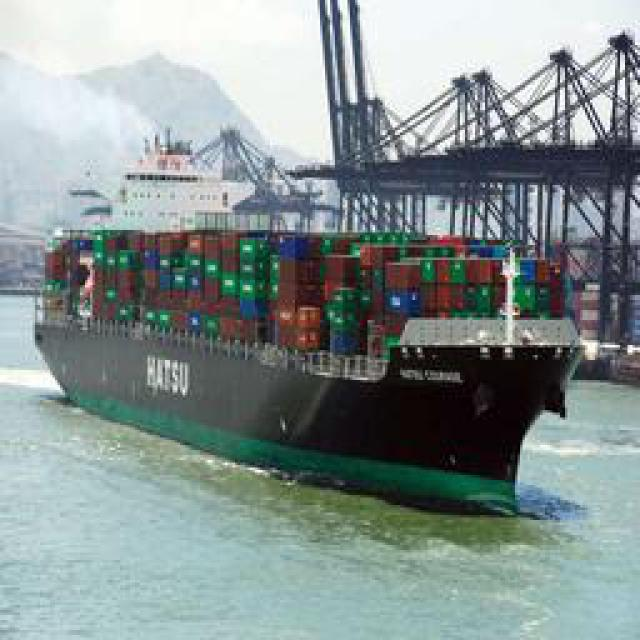Ship: (34, 181, 597, 511)
